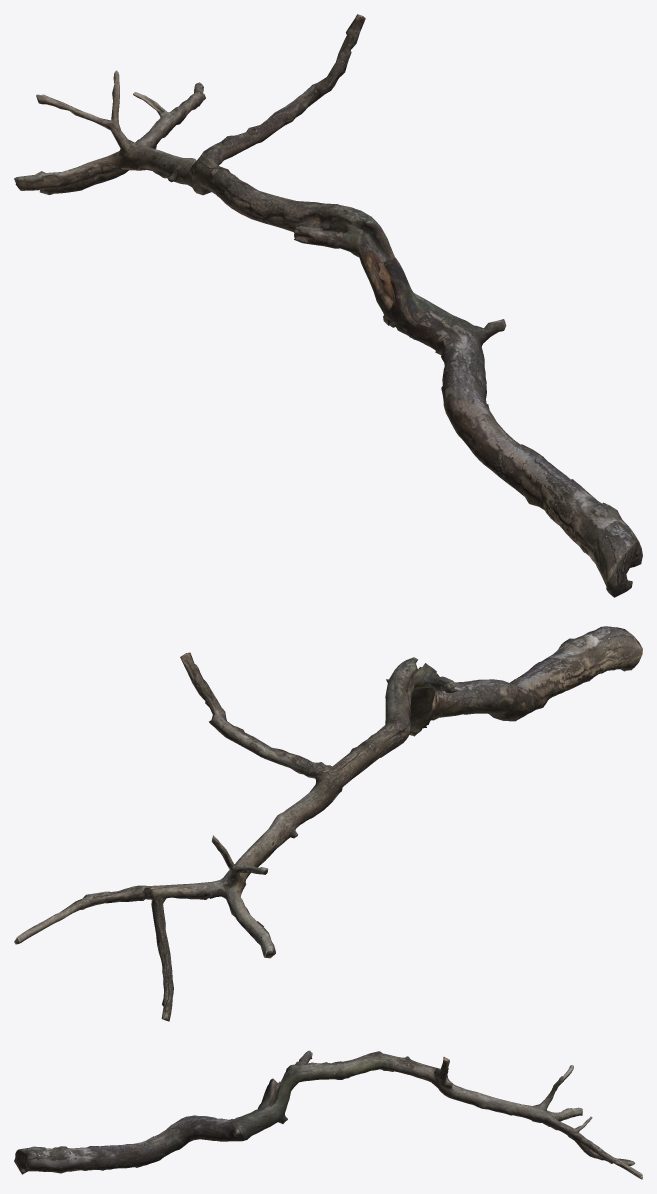
File: dry_branches.glb
3 renders of one model, top to bottom at view 1: azimuth 30°, elevation 25°; view 2: azimuth 150°, elevation 25°; view 3: azimuth 270°, elevation 25°, orthographic. The views are drawn at different scales.
Parts seen in each view (by area): view 1: LOD0; view 2: LOD0; view 3: LOD0.
Boxes of the visible parts, x1,y1,x2,y2 form: LOD0: [14, 14, 642, 597]; LOD0: [14, 626, 642, 1021]; LOD0: [14, 1050, 642, 1179].
Size of what is drawn, in the model's own units: 0.4523 by 0.4774 by 1.82.
1 material, 1 textured.
